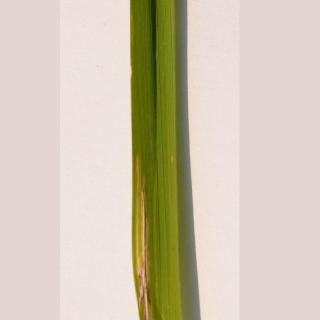Hawar-Daun: (123, 160, 167, 298)
